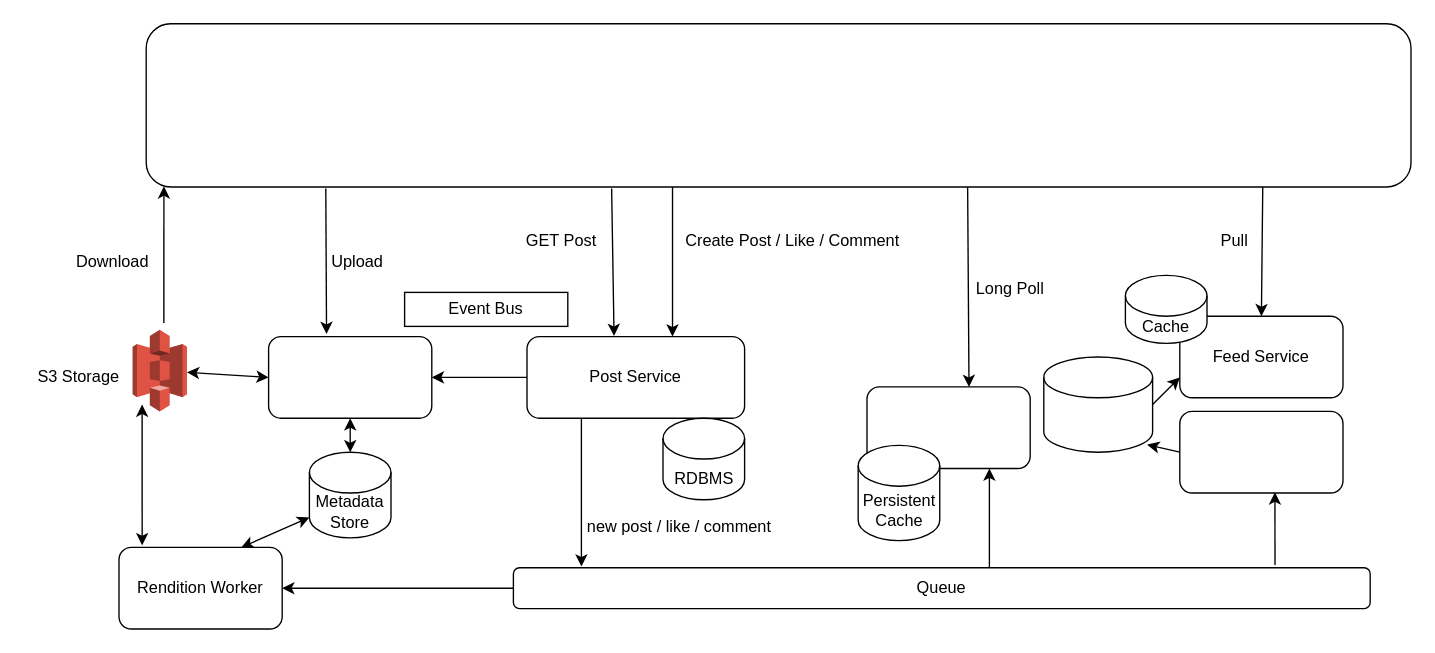
This 1435x653 diagram has some shape labels left out. Here are the shapes that lost their labels. From the top down, the centre of each, then its label:
At (778,104): "Client-side Application (webapp / mobile app)".
At (349,376): "File Service".
At (1097,404): "Cassandra".
At (948,427): "Notification Service".
At (1260,451): "Feed Generator Worker".
